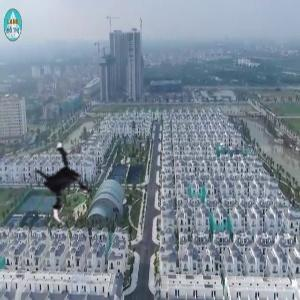drone: (19, 134, 113, 228)
